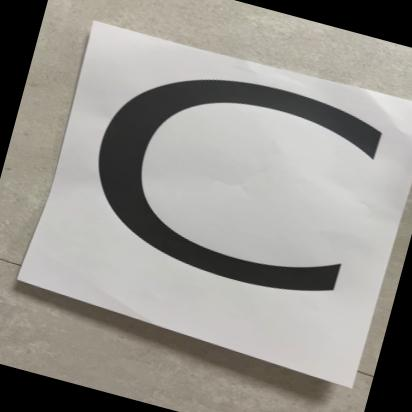seat: (24, 9, 412, 406)
